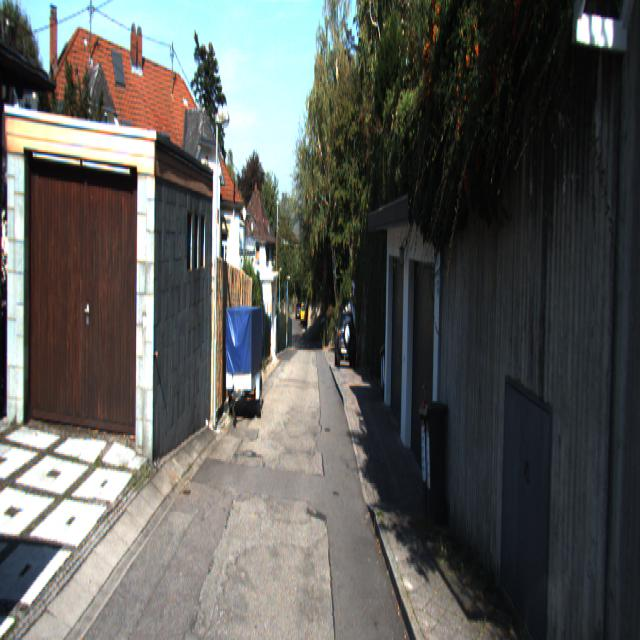Car: (225, 303, 263, 426), (334, 312, 356, 371)
